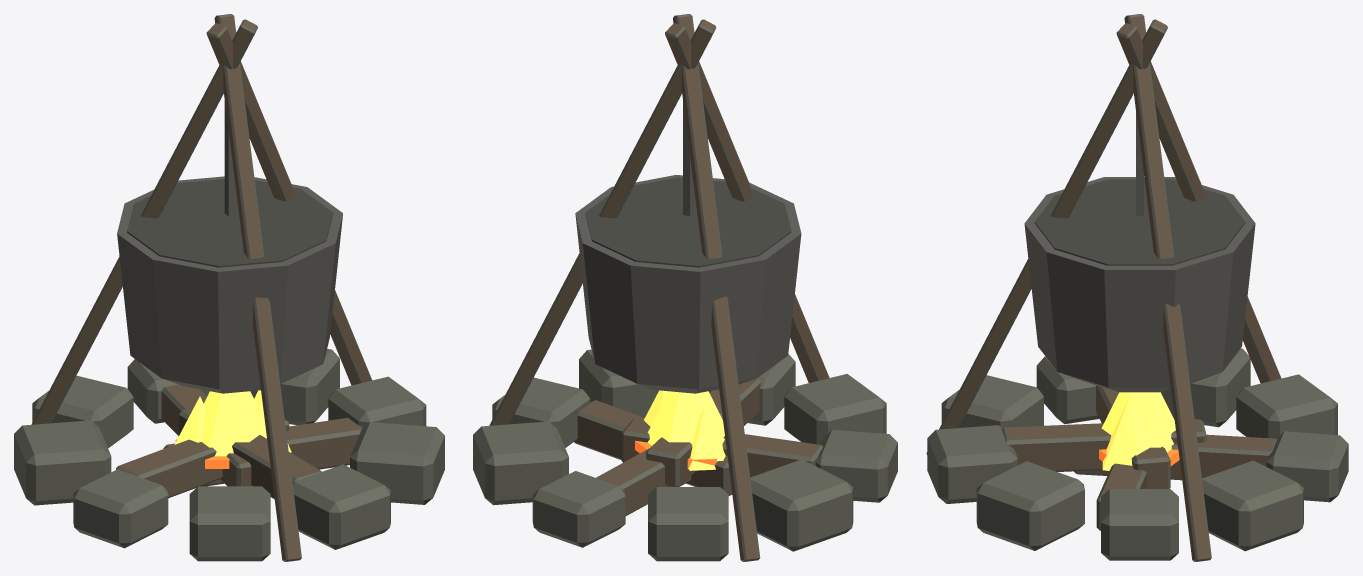
File: cauldron_fire.glb
3 views of the same model, side by side, from view 1: azimuth 30°, elevation 25°; view 2: azimuth 150°, elevation 25°; view 3: azimuth 270°, elevation 25° (orthographic).
Visible parts, largest first — view 1: Cauldron_Fire; view 2: Cauldron_Fire; view 3: Cauldron_Fire.
Boxes of the visible parts, x1=… form: Cauldron_Fire: x1=14, y1=14, x2=444, y2=561; Cauldron_Fire: x1=473, y1=14, x2=897, y2=561; Cauldron_Fire: x1=926, y1=14, x2=1348, y2=561.
Size of the model in its own units: 1.24 by 1.49 by 1.24.
